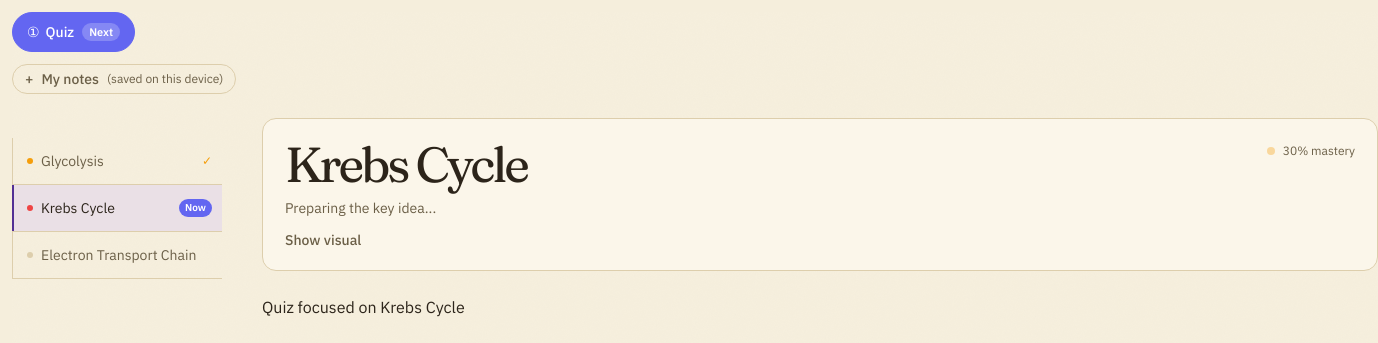
it: MaterialWorkspace › focuses the current step on the concept picked in the rail
Expected: the text "Quiz focused on Krebs Cycle" is shown, x1=262 y1=297 x2=465 y2=317
Click the button "Glycolysis ✓".
click(118, 162)  # box x1=13 y1=138 x2=222 y2=185
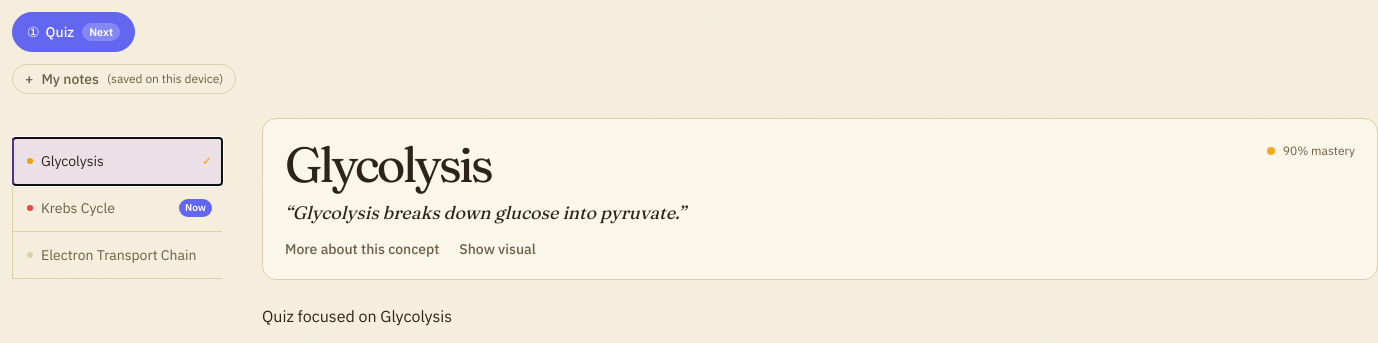
Result: the text "Quiz focused on Glycolysis" is shown at x1=262 y1=306 x2=452 y2=326
